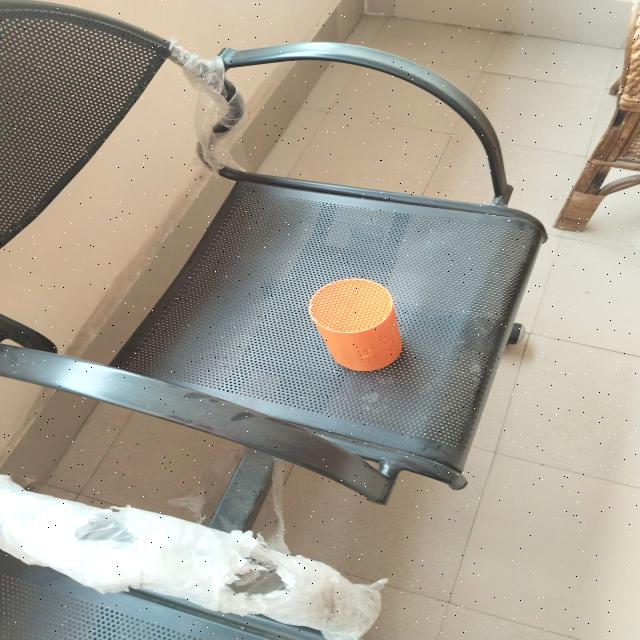Cylinder: (309, 276, 404, 372)
